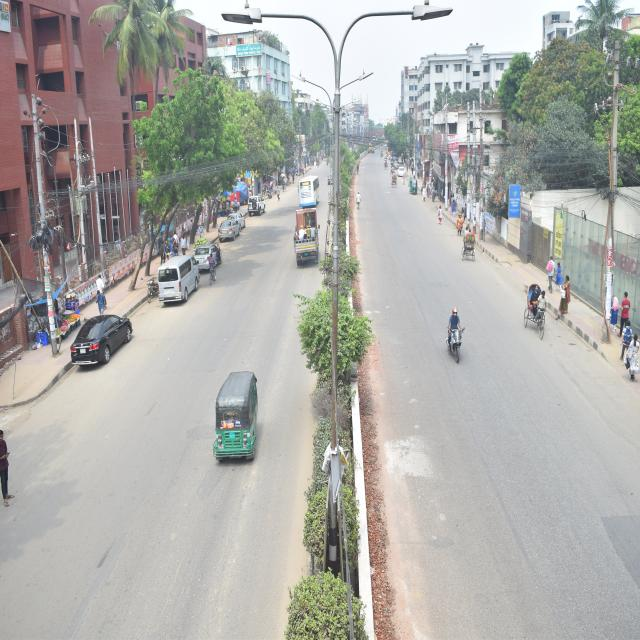bus: (294, 172, 323, 210)
car: (64, 304, 144, 382), (192, 241, 230, 271), (210, 217, 246, 243), (244, 190, 269, 222)
microbus: (155, 248, 204, 310)
motorbike: (442, 290, 472, 401)
pickup-van: (290, 206, 322, 272)
